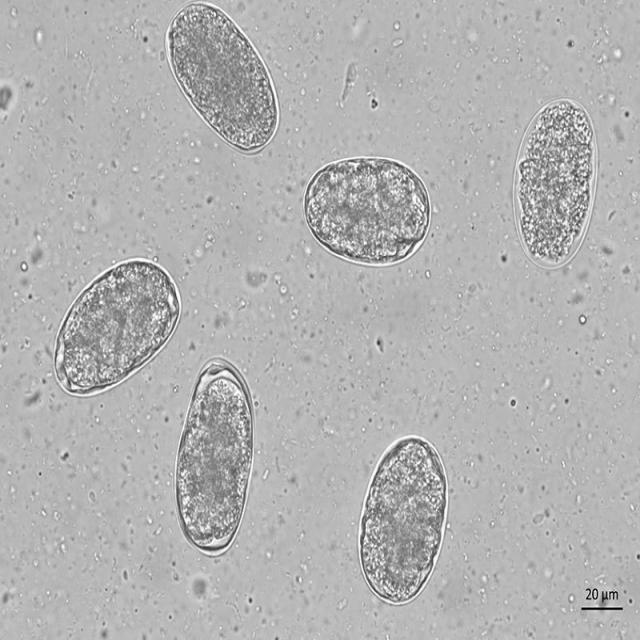Ancylostoma Spp: (169, 349, 265, 563), (160, 1, 284, 163), (46, 255, 184, 400), (356, 425, 447, 616), (509, 94, 599, 277), (303, 150, 435, 270)
